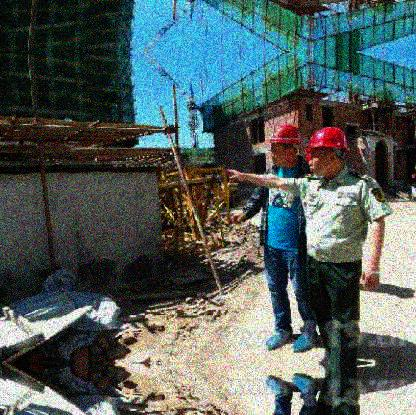helmet: (308, 126, 350, 173), (268, 126, 303, 167)
